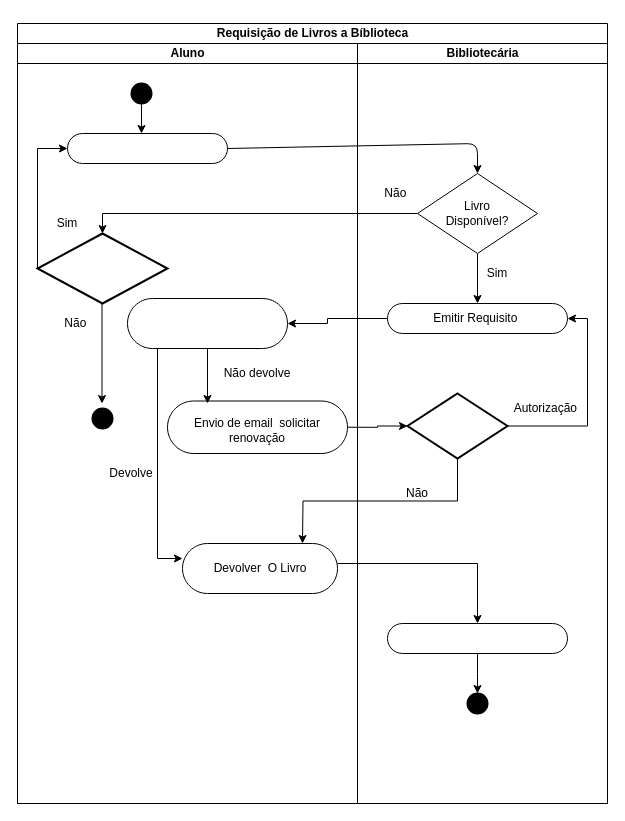
This 625x821 diagram has some shape labels left out. The shapes that lost their labels are listed below. From the top down, each one's centre as x and y in pixels, then its label:
At [147,148]: "Requisitar o Livro".
At [102,268]: "Requisitar Outro".
At [207,323]: "Entregar o Livro ao Aliuno".
At [477,638]: "Requisitar Devolução".
